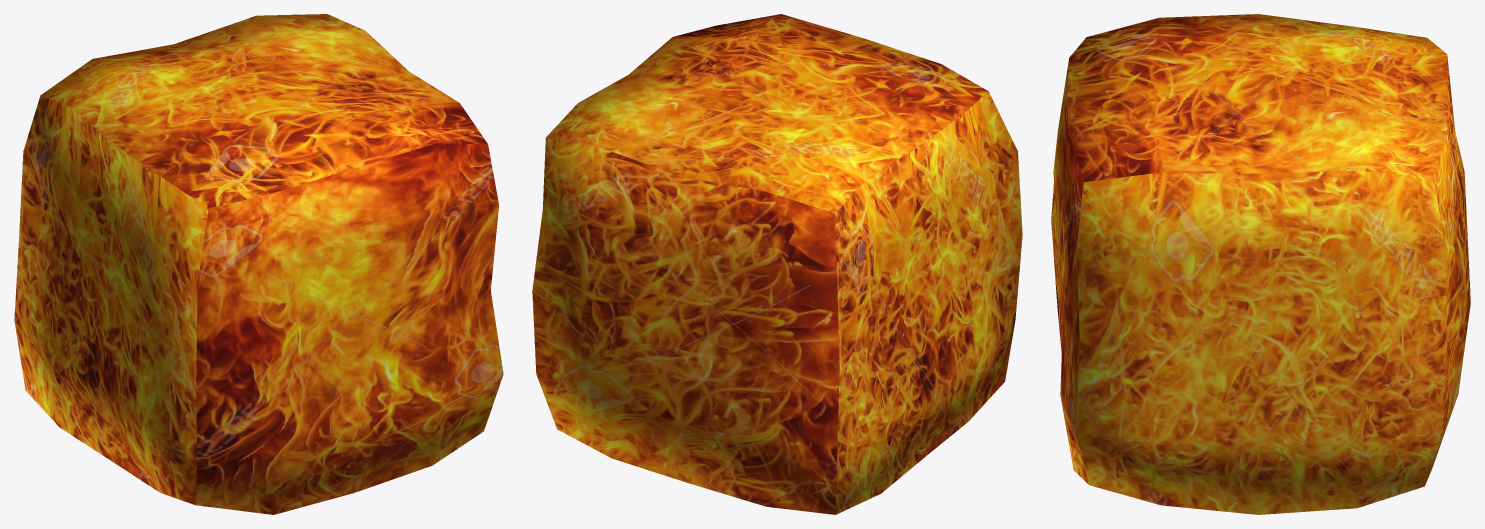
Rendered from Flamme.obj.
3 renders of one model, left to right at view 1: azimuth 30°, elevation 25°; view 2: azimuth 150°, elevation 25°; view 3: azimuth 270°, elevation 25°, orthographic. The views are drawn at different scales.
Parts seen in each view (by area): view 1: KillerFrostIceBlock; view 2: KillerFrostIceBlock; view 3: KillerFrostIceBlock.
Part boxes in pixels (<box>): KillerFrostIceBlock: <box>14,14,503,514</box>; KillerFrostIceBlock: <box>532,14,1022,514</box>; KillerFrostIceBlock: <box>1051,14,1470,514</box>.
Size of the model in its own units: 0.583 by 0.5834 by 0.5998.
1 material, 1 textured.
